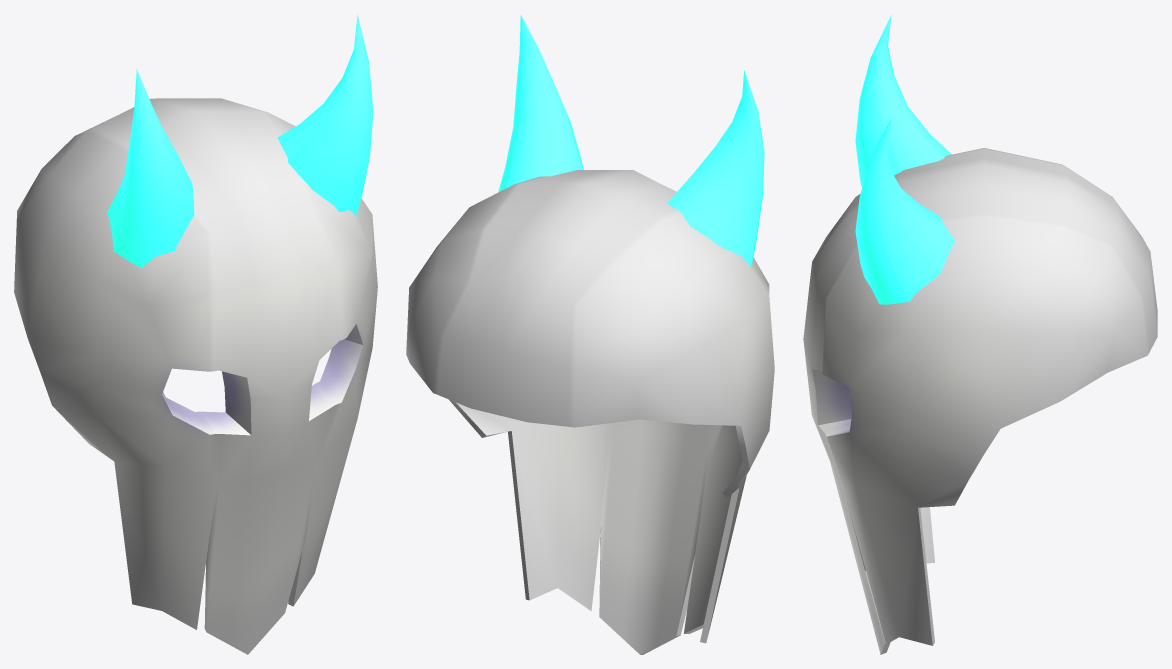
File: badamsk.fbx
The picture shows the model from 3 angles, left to right: view 1: azimuth 30°, elevation 25°; view 2: azimuth 150°, elevation 25°; view 3: azimuth 270°, elevation 25°; orthographic projection. The views are drawn at different scales.
Parts seen in each view (by area): view 1: collapsed; view 2: collapsed; view 3: collapsed.
Part boxes in pixels (x1,y1,x2,y2): collapsed: (14,14,377,654); collapsed: (406,14,774,654); collapsed: (803,15,1157,654).
Size of the model in its own units: 57.54 by 106 by 57.28.
Materials: 1 (1 with a texture image).
